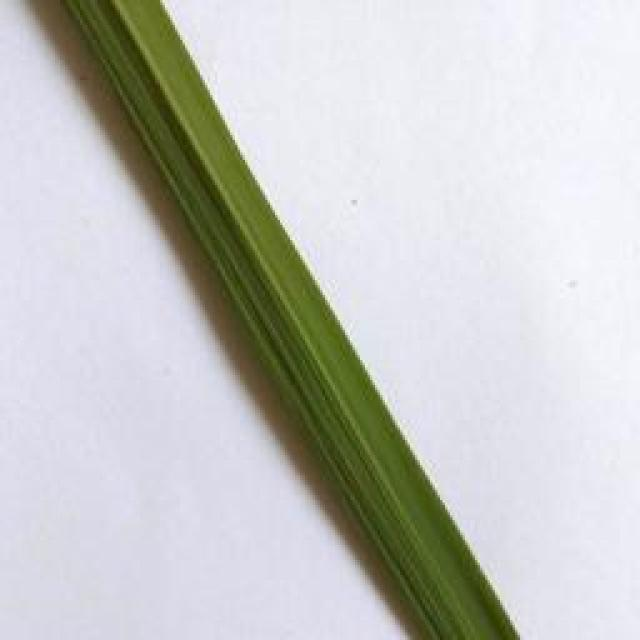Healthy-Plant: (59, 0, 520, 640)
